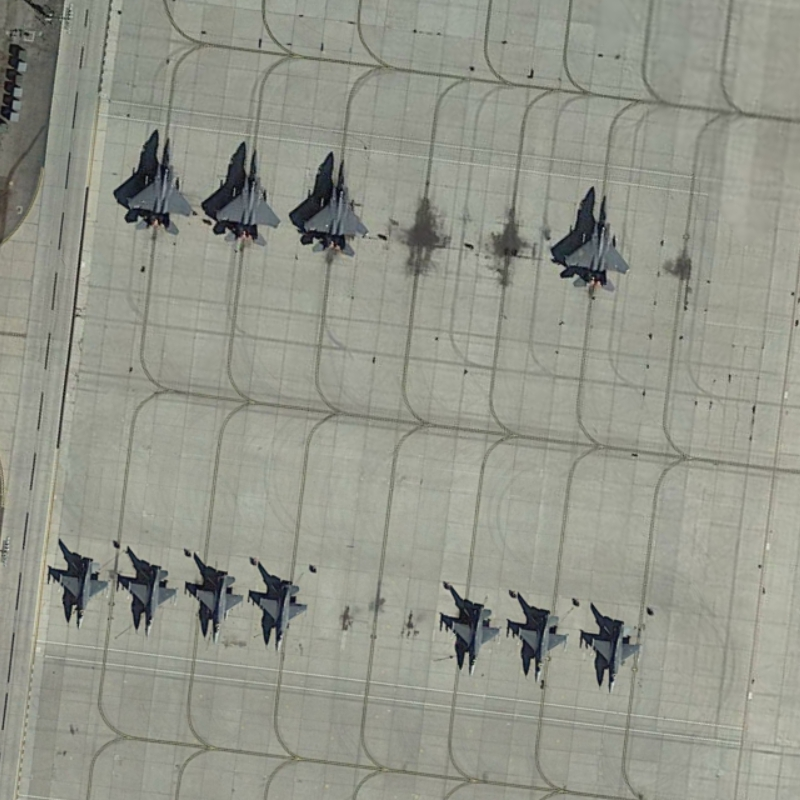A13: (549, 182, 638, 300), (112, 126, 201, 243), (293, 150, 378, 267), (200, 139, 285, 255)
A5: (576, 606, 646, 700), (510, 594, 575, 687), (118, 552, 183, 644), (49, 550, 115, 635), (441, 595, 506, 681), (187, 562, 248, 649), (251, 571, 312, 658)
